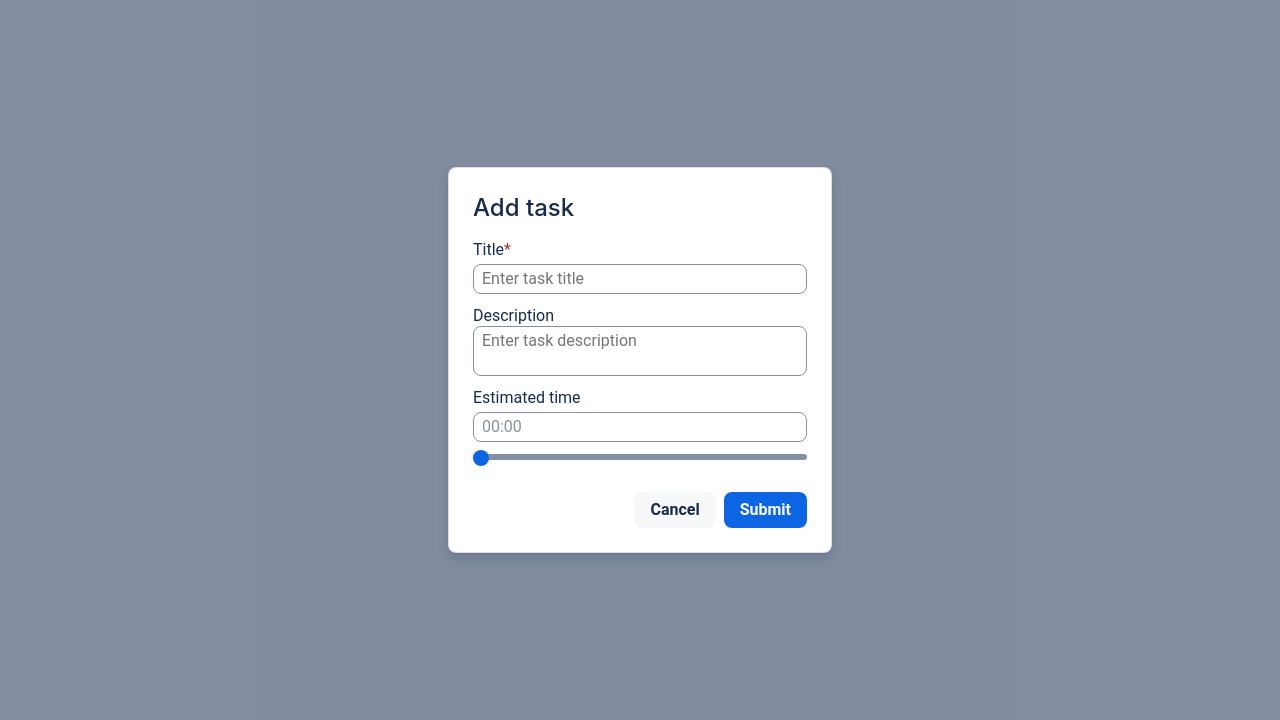
AddTaskModal Component › cancels the form and resets state
In the field with placeholder "Enter task title": (640,279) [482,269,798,289], type "Test Task"
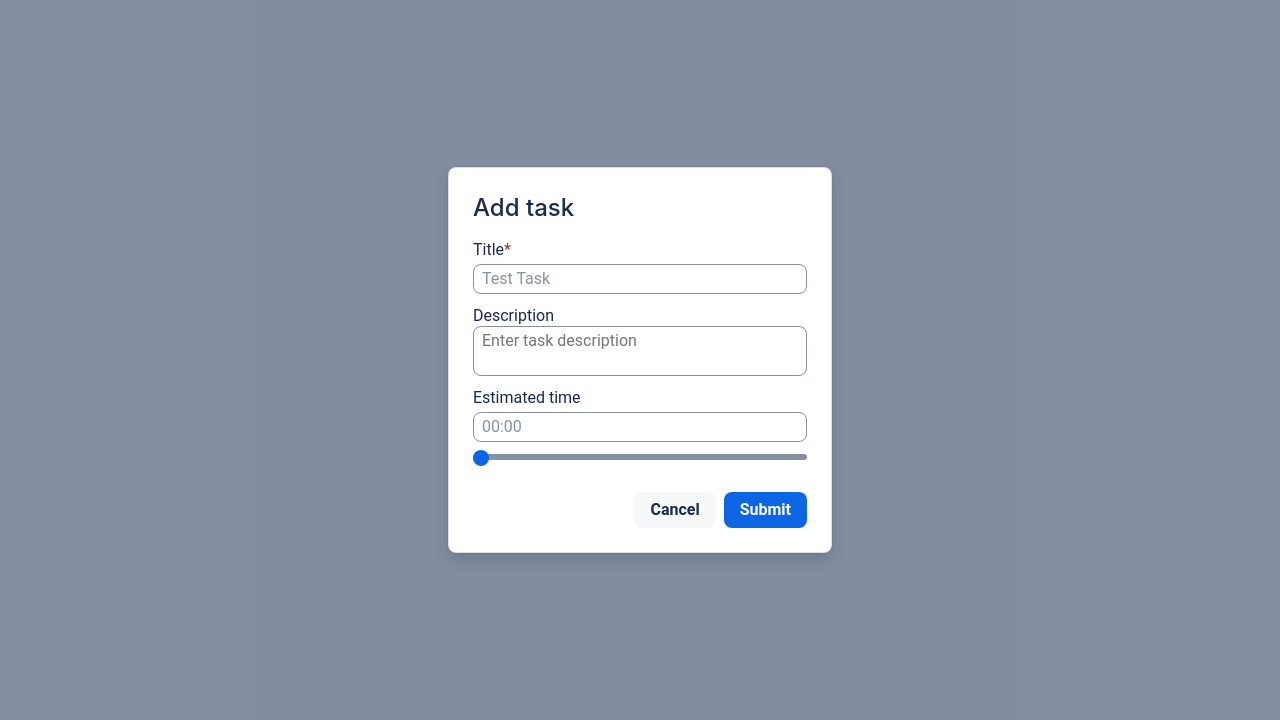
Click the button "Cancel": (675,510) [634,492,716,528]
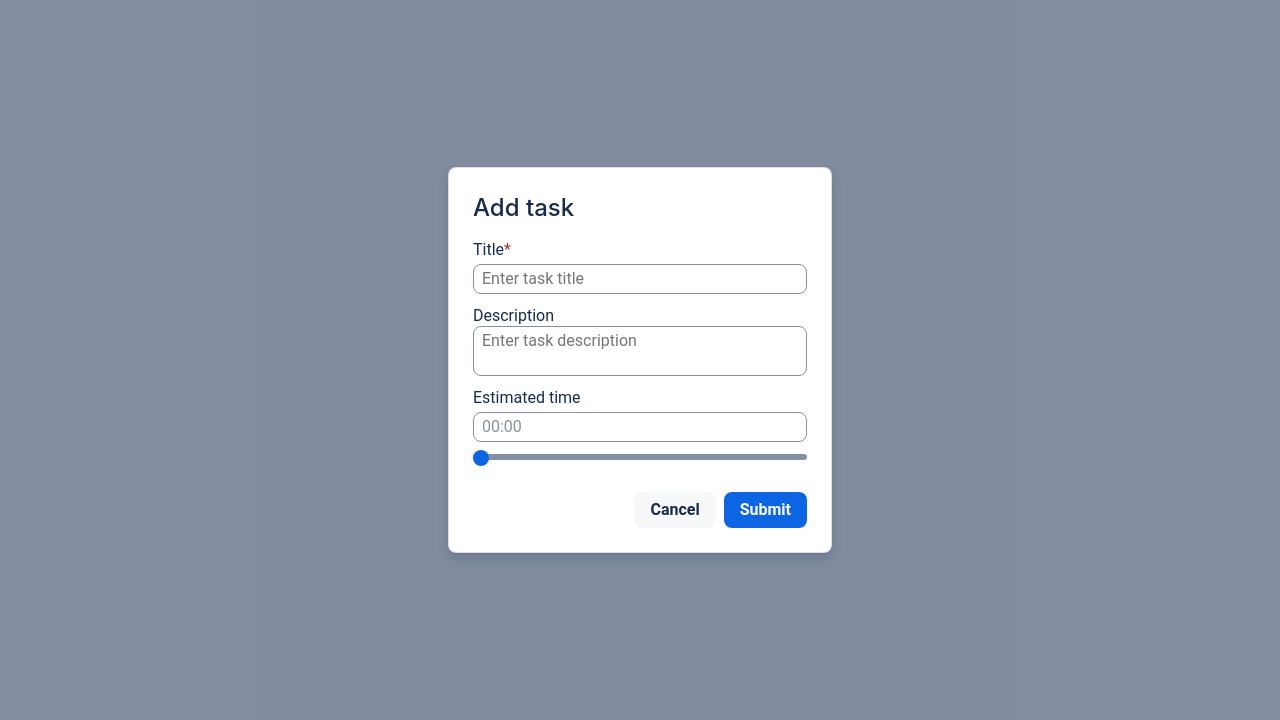
Expected: the field with placeholder "Enter task title" is empty, [482,269,798,289]
